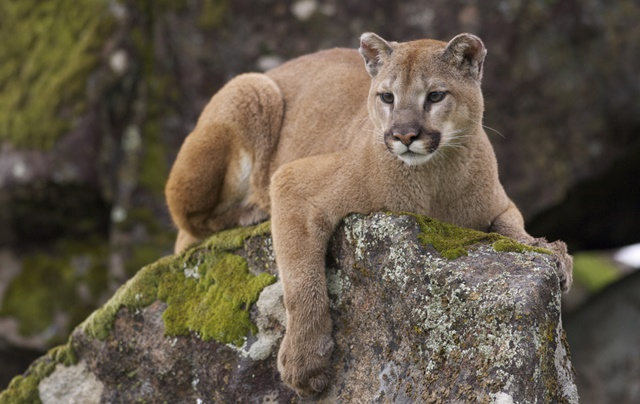OncaParda: (159, 28, 576, 399)
